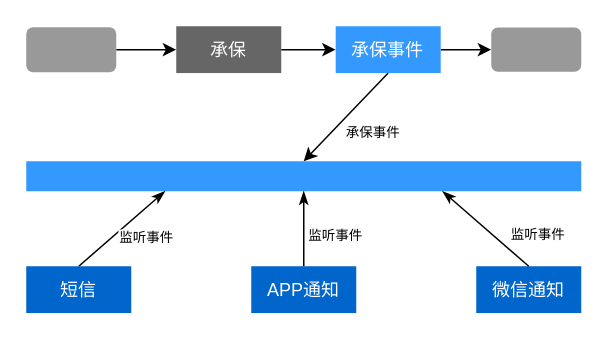
The diagram is 606 pixels wide and 339 high, and some of its shapes have lost their labels. The centre of each missing label's shape, as x and y in pixels:
"Spring 事件机制" goes at (303,175).
"流程结束" goes at (535,49).
"用户" goes at (71,48).
